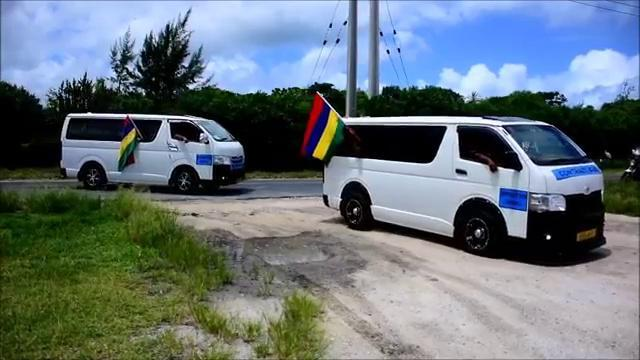Van: (315, 104, 606, 258), (56, 109, 251, 195)
